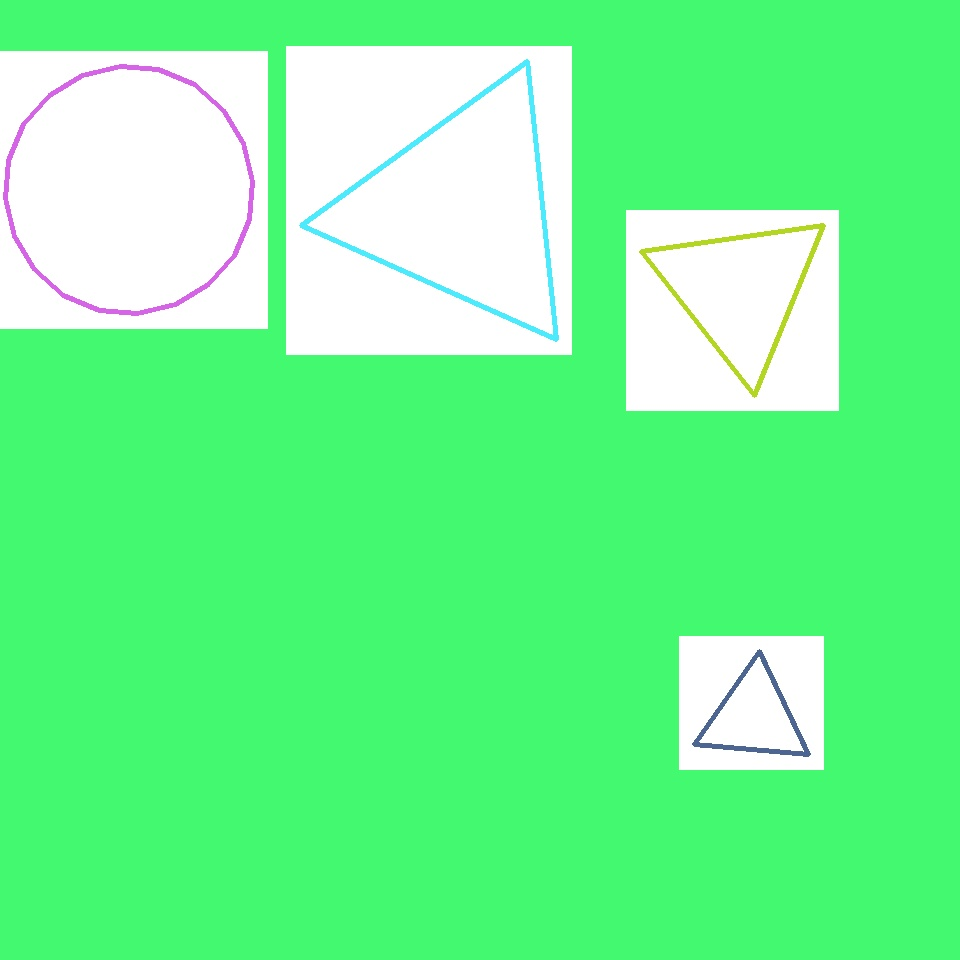circle: (156, 308, 450, 586), (334, 70, 590, 348), (379, 483, 647, 720), (642, 638, 854, 846), (649, 206, 831, 376), (697, 666, 811, 768)
square: (714, 458, 912, 656)
triangle: (6, 66, 252, 314)
